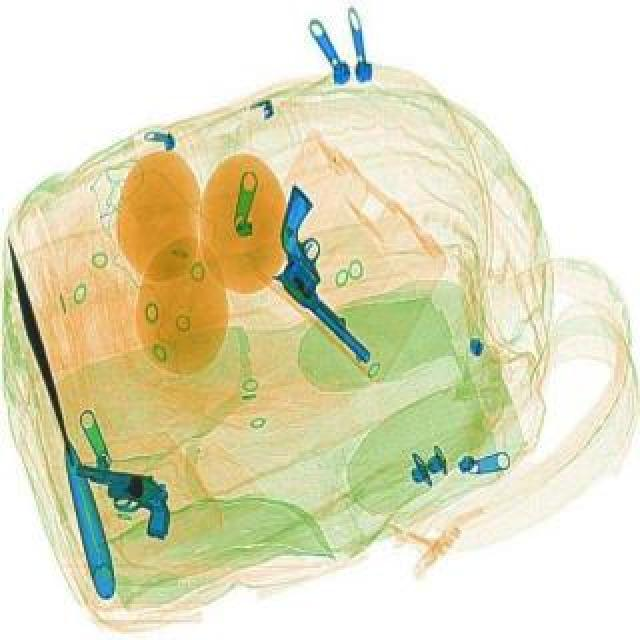gun: (230, 182, 430, 362), (64, 462, 180, 538)
knife: (0, 234, 118, 600)
